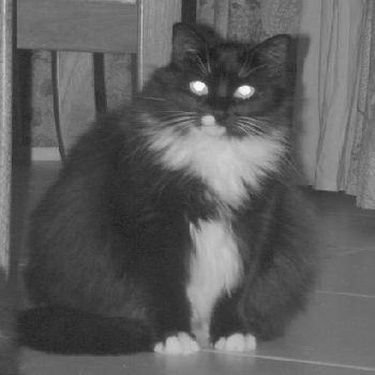cat: (21, 20, 332, 352)
